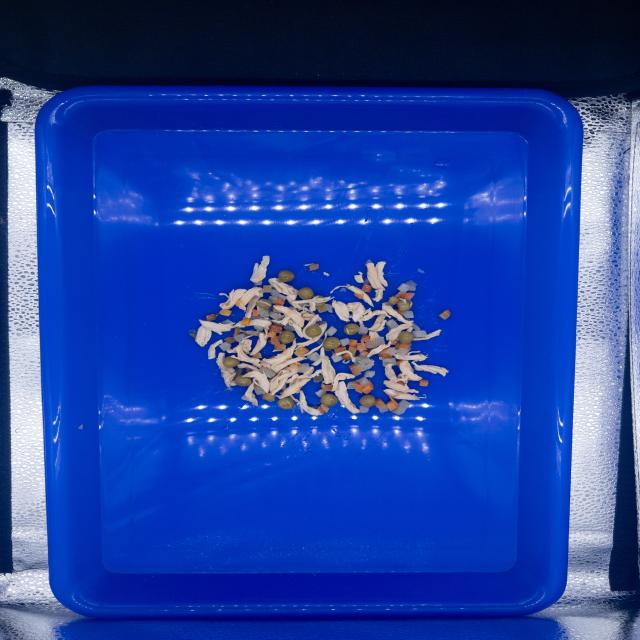Carrot: (353, 380, 374, 394), (356, 341, 369, 358), (394, 291, 415, 301), (387, 395, 400, 411), (378, 348, 394, 359), (395, 341, 412, 350), (294, 347, 309, 357), (349, 364, 361, 376), (206, 312, 219, 322), (318, 404, 329, 415), (439, 310, 451, 320), (269, 324, 282, 333), (263, 393, 275, 402), (375, 398, 385, 408), (239, 317, 250, 326), (348, 346, 357, 357), (274, 343, 286, 351), (321, 384, 333, 392), (361, 285, 373, 293), (224, 337, 237, 344), (219, 309, 232, 316), (334, 346, 346, 353), (315, 306, 327, 313), (275, 298, 285, 306), (347, 339, 357, 347), (271, 336, 280, 344), (233, 328, 241, 337), (267, 331, 277, 338), (419, 379, 429, 386), (343, 353, 352, 360), (361, 335, 370, 342), (395, 309, 404, 316), (354, 293, 364, 299), (252, 309, 259, 317), (290, 362, 298, 369), (273, 307, 282, 313), (396, 360, 405, 366), (253, 353, 261, 358), (397, 381, 405, 386), (390, 341, 399, 345), (190, 334, 196, 339), (237, 300, 242, 306)
Chicken_Shred: (227, 335, 323, 416), (268, 278, 334, 351), (332, 299, 414, 339), (311, 347, 359, 414), (383, 360, 426, 400), (260, 337, 307, 373), (367, 324, 413, 357), (394, 351, 449, 377), (195, 319, 245, 347), (219, 287, 264, 318), (330, 284, 374, 307), (366, 261, 388, 302), (249, 317, 272, 355), (216, 353, 237, 387), (301, 331, 327, 357), (250, 256, 270, 283), (208, 339, 224, 359), (412, 330, 441, 341), (336, 350, 356, 362), (353, 272, 364, 283), (400, 298, 407, 304), (343, 359, 350, 364), (323, 272, 330, 276), (379, 357, 382, 360)
Peas: (277, 397, 294, 410), (396, 298, 411, 312), (359, 395, 375, 408), (323, 337, 340, 349), (305, 325, 322, 337), (321, 394, 338, 406), (279, 331, 294, 344), (343, 323, 359, 335), (298, 287, 314, 299), (278, 270, 294, 282), (235, 376, 252, 387), (256, 299, 272, 310), (223, 357, 239, 368), (399, 332, 413, 343), (316, 302, 326, 307), (311, 295, 323, 299)
Potato_White: (354, 356, 375, 372), (391, 399, 411, 415), (358, 370, 375, 387), (258, 366, 276, 379), (365, 337, 385, 348), (239, 330, 264, 336), (386, 296, 399, 307), (397, 283, 411, 293), (386, 319, 399, 329), (307, 352, 320, 362), (396, 348, 412, 356), (383, 358, 397, 367), (257, 307, 269, 317), (412, 330, 427, 338), (297, 364, 310, 373), (326, 326, 337, 336), (219, 342, 231, 351), (269, 311, 280, 320), (386, 347, 397, 356), (234, 334, 246, 342), (405, 280, 417, 288), (255, 386, 265, 395), (378, 404, 388, 413), (315, 390, 326, 398), (402, 311, 414, 318), (251, 315, 267, 320), (358, 327, 368, 335), (340, 338, 350, 346), (332, 355, 343, 362), (268, 296, 277, 304), (271, 289, 280, 297), (325, 304, 333, 313), (412, 322, 420, 331), (313, 375, 323, 382), (359, 406, 369, 413), (309, 264, 319, 271), (347, 381, 355, 389), (277, 294, 286, 301), (254, 325, 264, 331), (284, 325, 294, 331), (241, 394, 249, 401), (264, 285, 272, 292), (221, 319, 232, 323), (299, 303, 310, 307), (408, 286, 416, 291), (254, 280, 262, 285), (288, 307, 297, 311), (282, 383, 286, 390)
